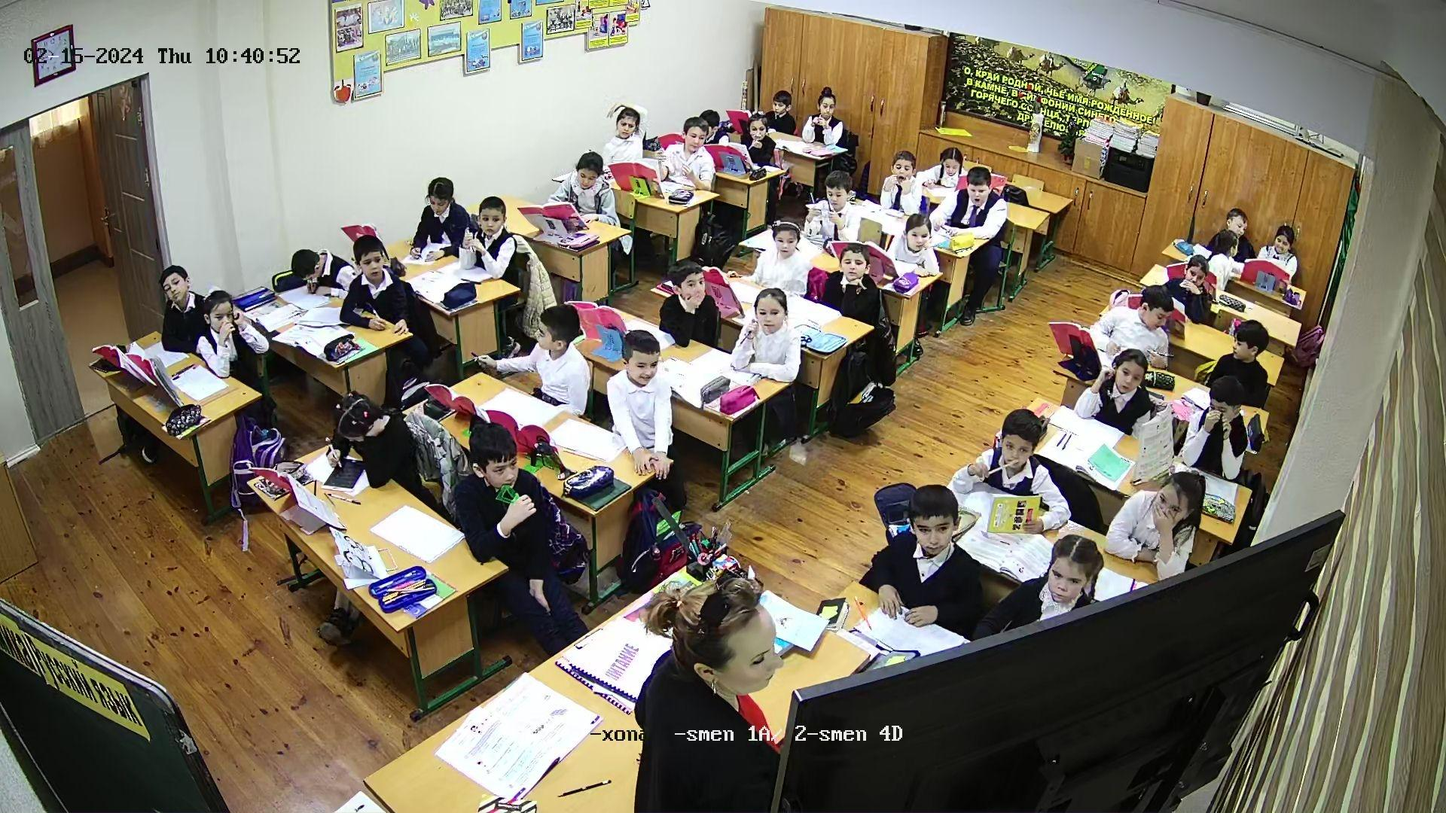Look Around: (615, 327, 670, 468), (343, 233, 407, 336), (197, 289, 257, 372), (464, 196, 515, 270), (1208, 228, 1235, 289), (1130, 292, 1169, 333)
Normal: (413, 174, 462, 259), (281, 240, 336, 303)
Stand Up: (636, 560, 798, 813)
